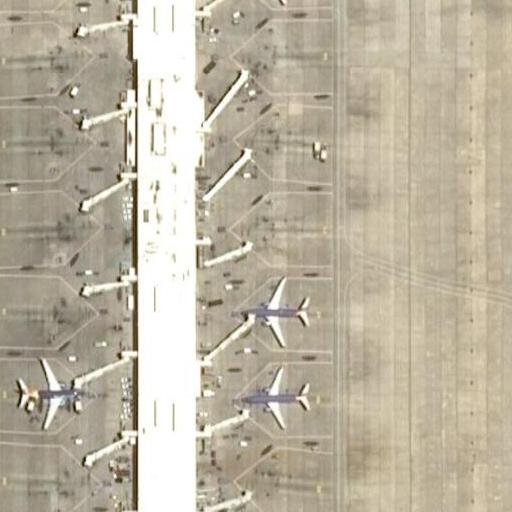Aircraft: (10, 350, 104, 433), (237, 277, 312, 354), (230, 371, 315, 432)
